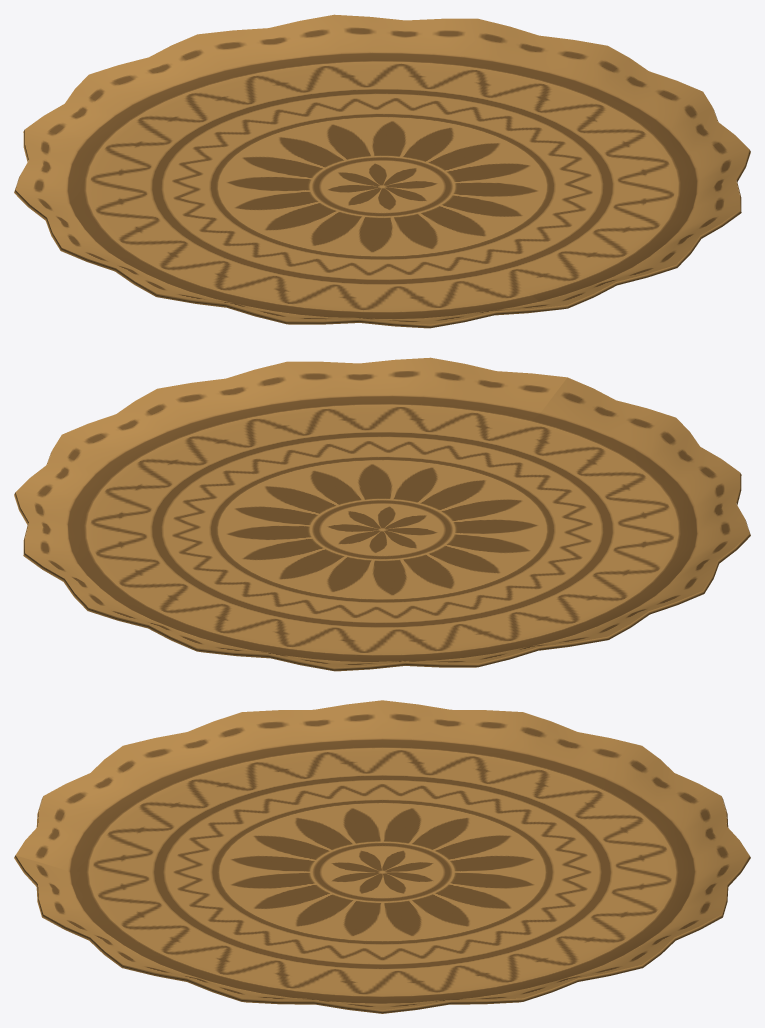
File: prop-tray.glb
3 renders of one model, top to bottom at view 1: azimuth 30°, elevation 25°; view 2: azimuth 150°, elevation 25°; view 3: azimuth 270°, elevation 25°, orthographic.
Parts seen in each view (by area): view 1: piece_EngravedBrass, piece_Brass; view 2: piece_EngravedBrass, piece_Brass; view 3: piece_EngravedBrass, piece_Brass.
Part boxes in pixels (bbox=[...]): piece_EngravedBrass: bbox=[15, 14, 749, 324]; piece_Brass: bbox=[14, 108, 750, 328]; piece_EngravedBrass: bbox=[15, 357, 749, 667]; piece_Brass: bbox=[14, 451, 750, 671]; piece_EngravedBrass: bbox=[15, 700, 749, 1010]; piece_Brass: bbox=[14, 797, 750, 1013].
Size of the model in its own units: 0.5171 by 0.0172 by 0.5171.
2 materials, 1 textured.
